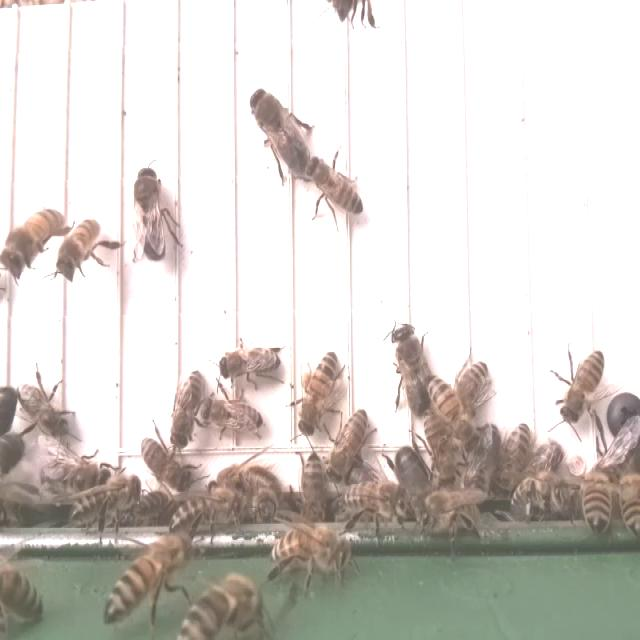Drone: (246, 85, 316, 181), (128, 162, 174, 267), (389, 320, 435, 420)
Worker: (105, 529, 192, 624), (304, 146, 367, 225), (170, 480, 249, 538), (341, 472, 416, 532), (13, 379, 78, 446), (296, 346, 342, 440), (428, 369, 476, 457), (557, 345, 607, 429), (67, 471, 143, 526), (137, 431, 198, 498), (203, 387, 270, 446), (208, 338, 291, 385), (510, 472, 575, 531), (4, 206, 64, 268), (204, 454, 279, 503), (328, 403, 371, 485), (165, 364, 206, 449), (270, 528, 351, 567), (497, 418, 534, 498), (59, 219, 104, 279), (583, 452, 614, 536), (452, 358, 491, 414), (299, 448, 326, 521)
